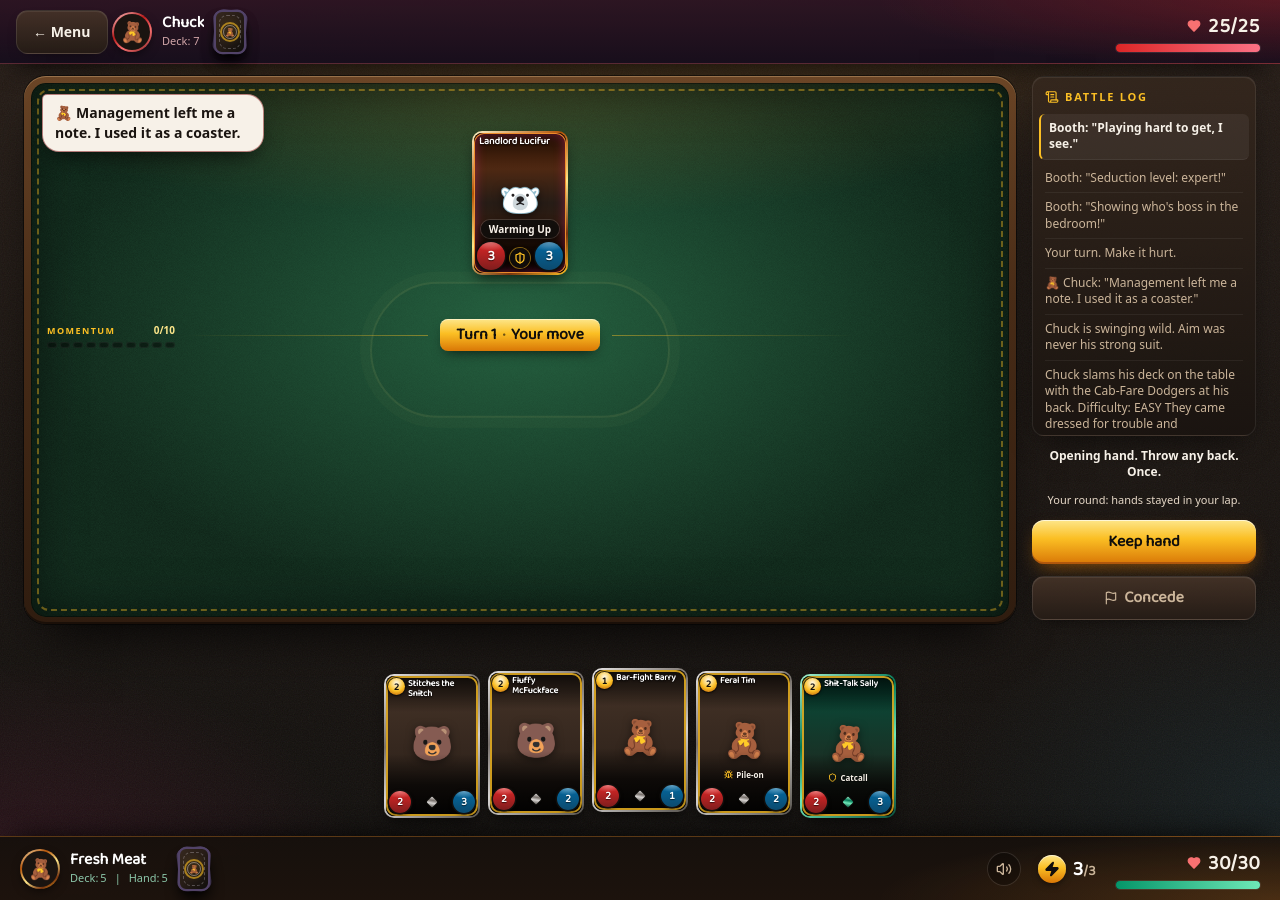
GameBoard › exposes a stable requestLeave that asks while the game is live
Later steps or results of the test are not shown.
Click the button "Keep hand" at coordinates (1144, 542), box top-left (1032, 520), bottom-right (1256, 564)
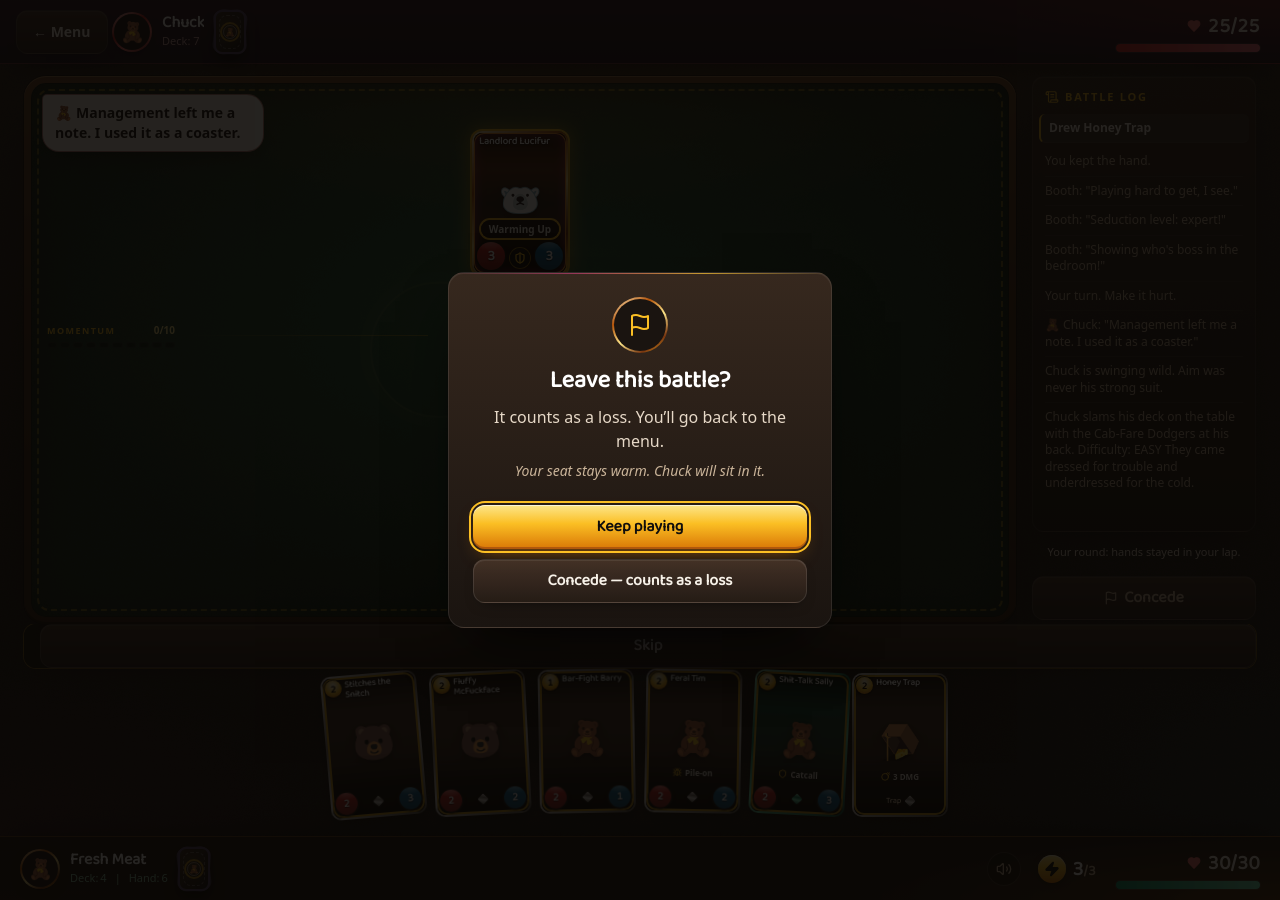
Now the heading with id "leave-battle-title" reads "Leave this battle?", box top-left (550, 361), bottom-right (730, 400)
Confirming from the menu path leaves.
Click the button "Keep playing" at coordinates (640, 527), box top-left (473, 505), bottom-right (807, 549)
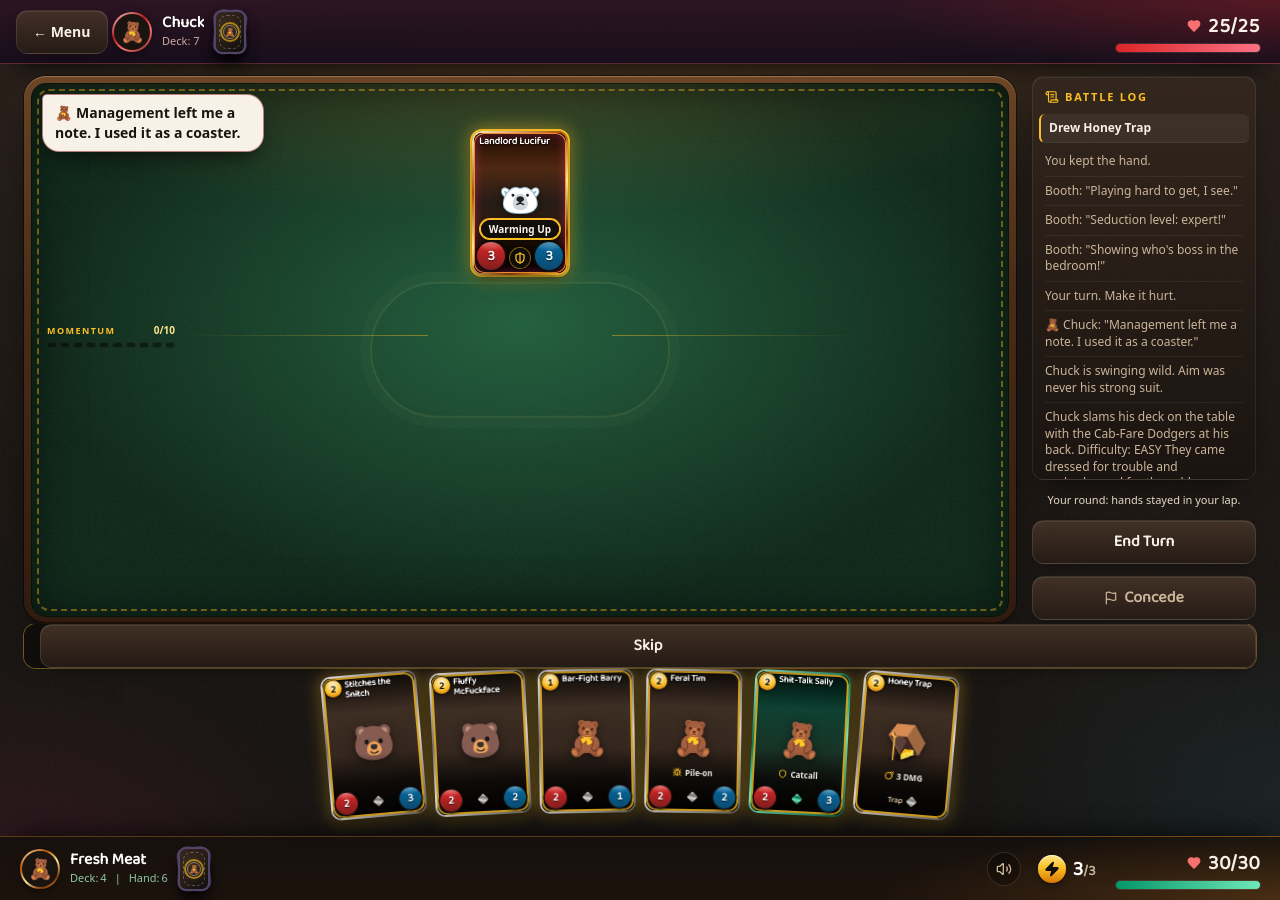
Now the heading with id "leave-battle-title" is gone
